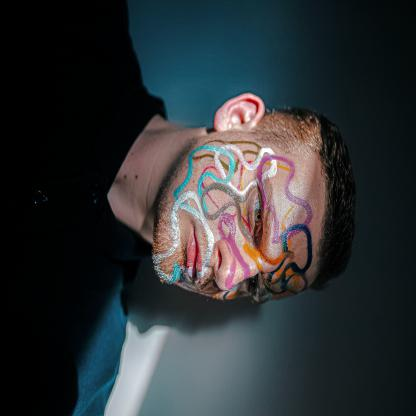Eye: (250, 186, 264, 234), (244, 278, 260, 297)
Mouth: (185, 222, 204, 282)
Nose: (213, 240, 255, 291)
